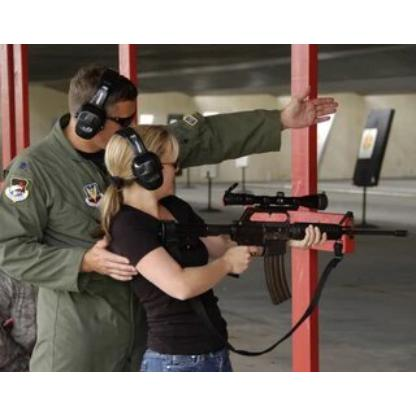gun: (162, 186, 406, 304)
